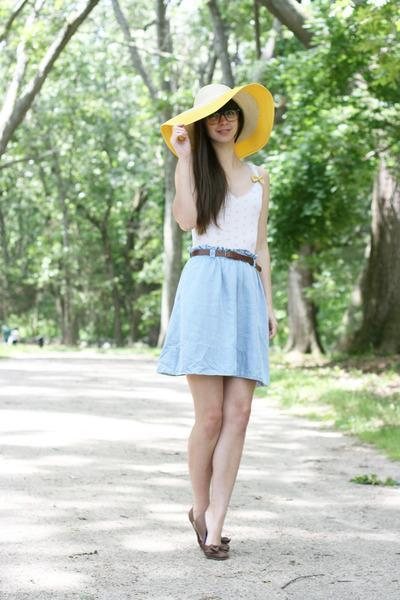hat: (162, 70, 276, 155)
shirt: (183, 162, 266, 259)
shoe: (194, 523, 229, 560)
skirt: (158, 256, 276, 384)
